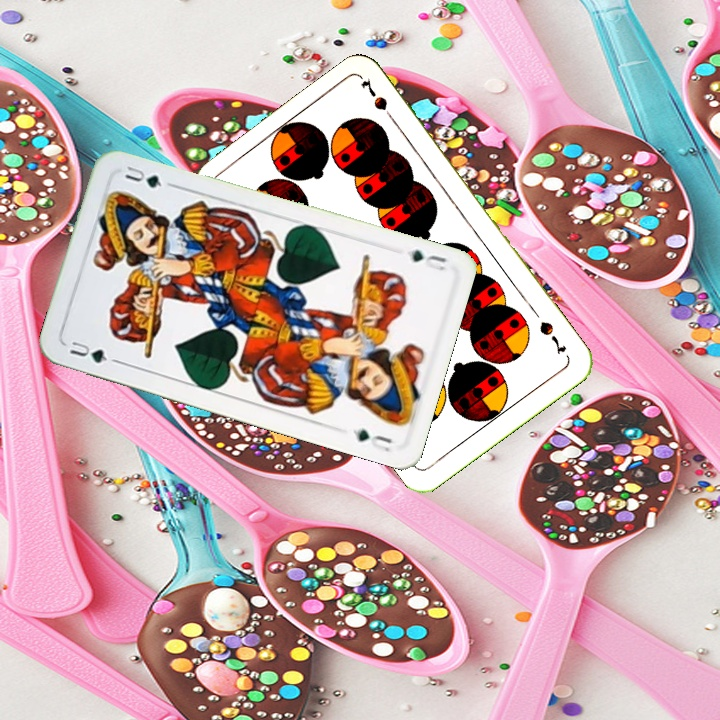GU: (403, 245, 449, 274), (66, 337, 110, 366)
S7: (535, 317, 569, 357)
